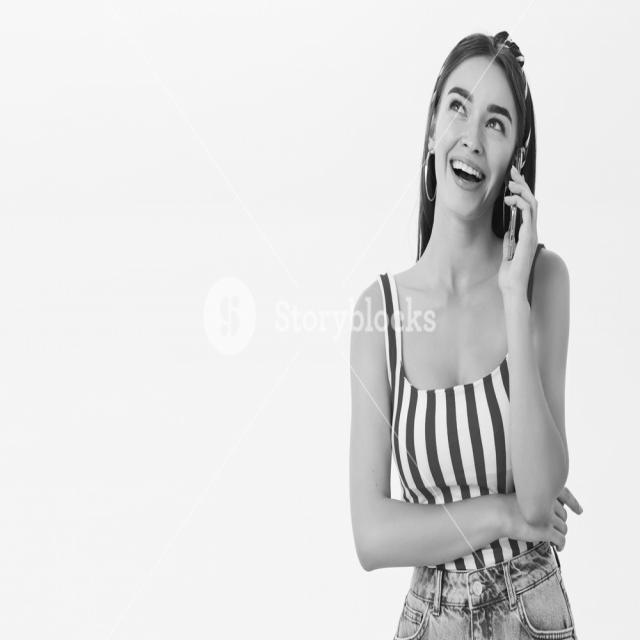phone: (482, 87, 552, 291)
